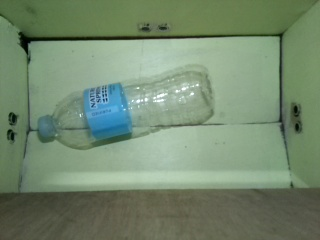bottle: (35, 64, 218, 152)
